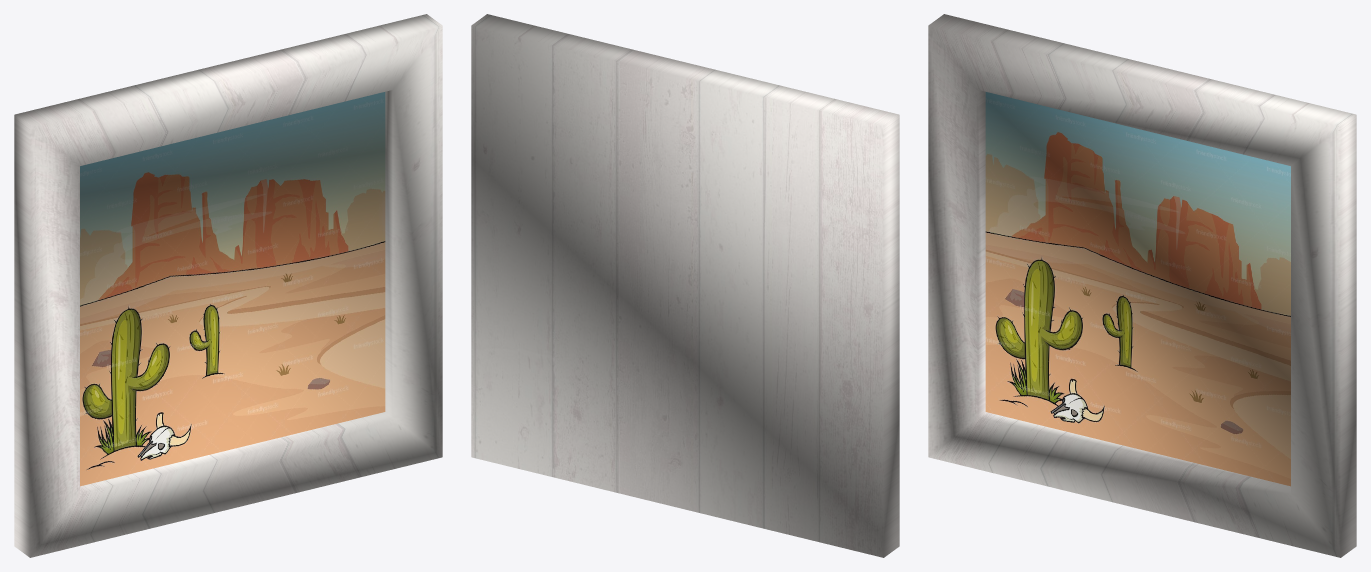
The model's file is cuadro.fbx.
3 renders of one model, left to right at view 1: azimuth 30°, elevation 25°; view 2: azimuth 150°, elevation 25°; view 3: azimuth 330°, elevation 25°, orthographic.
Visible parts, largest first — view 1: Cuadro; view 2: Cuadro; view 3: Cuadro.
Boxes of the visible parts, x1=… form: Cuadro: x1=14, y1=14, x2=442, y2=557; Cuadro: x1=471, y1=14, x2=899, y2=557; Cuadro: x1=928, y1=14, x2=1356, y2=557.
Bounding box in the file's own units: 26.87 × 26.87 × 1.79.
